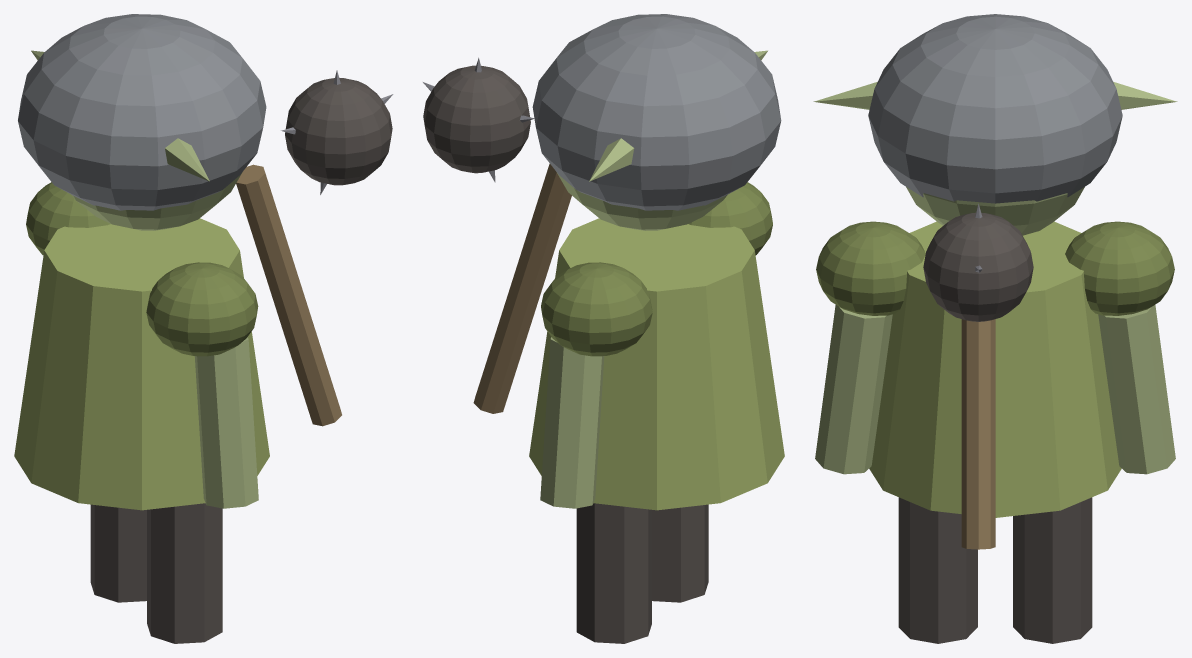
Rendered from hero_gryk_3.glb.
3 renders of one model, left to right at view 1: azimuth 30°, elevation 25°; view 2: azimuth 150°, elevation 25°; view 3: azimuth 270°, elevation 25°, orthographic.
Parts seen in each view (by area): view 1: figurka; view 2: figurka; view 3: figurka.
Part boxes in pixels (<box>): figurka: <box>14,14,393,643</box>; figurka: <box>423,14,784,643</box>; figurka: <box>813,14,1177,643</box>.
Bounding box in the file's own units: 0.489 × 0.7685 × 0.4295.
